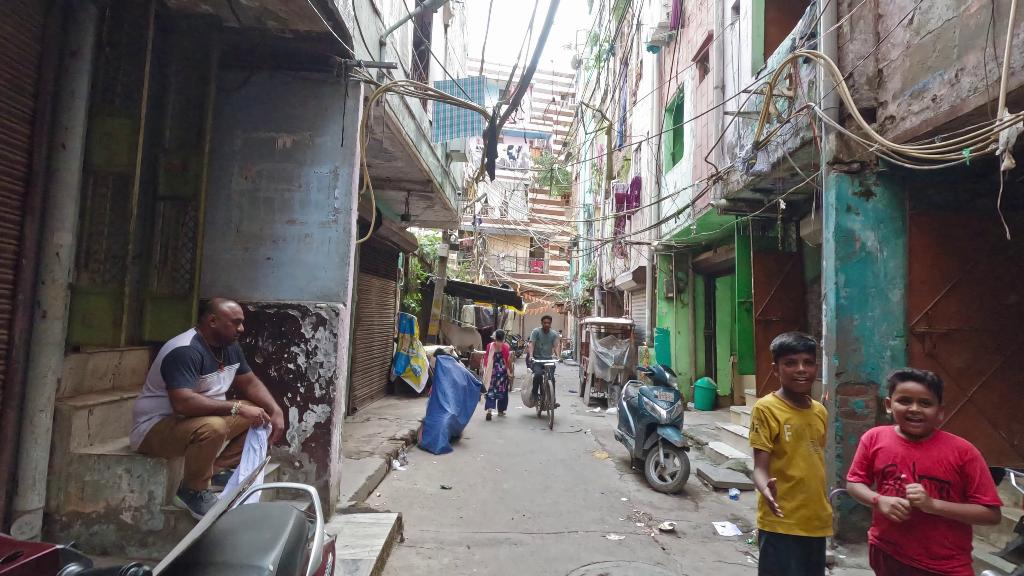garbage: (712, 512, 749, 544), (388, 443, 411, 477), (653, 516, 679, 537), (592, 445, 613, 462), (725, 485, 743, 500)
